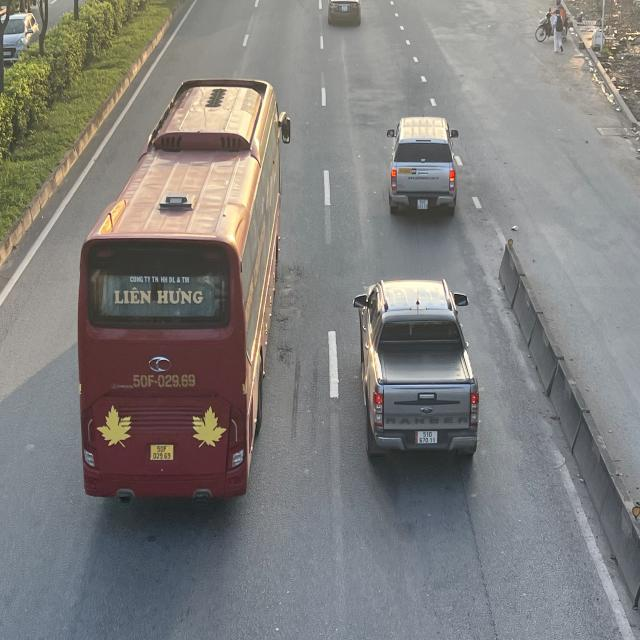car: (352, 282, 478, 470), (387, 116, 459, 216)
coach: (74, 78, 286, 505)
